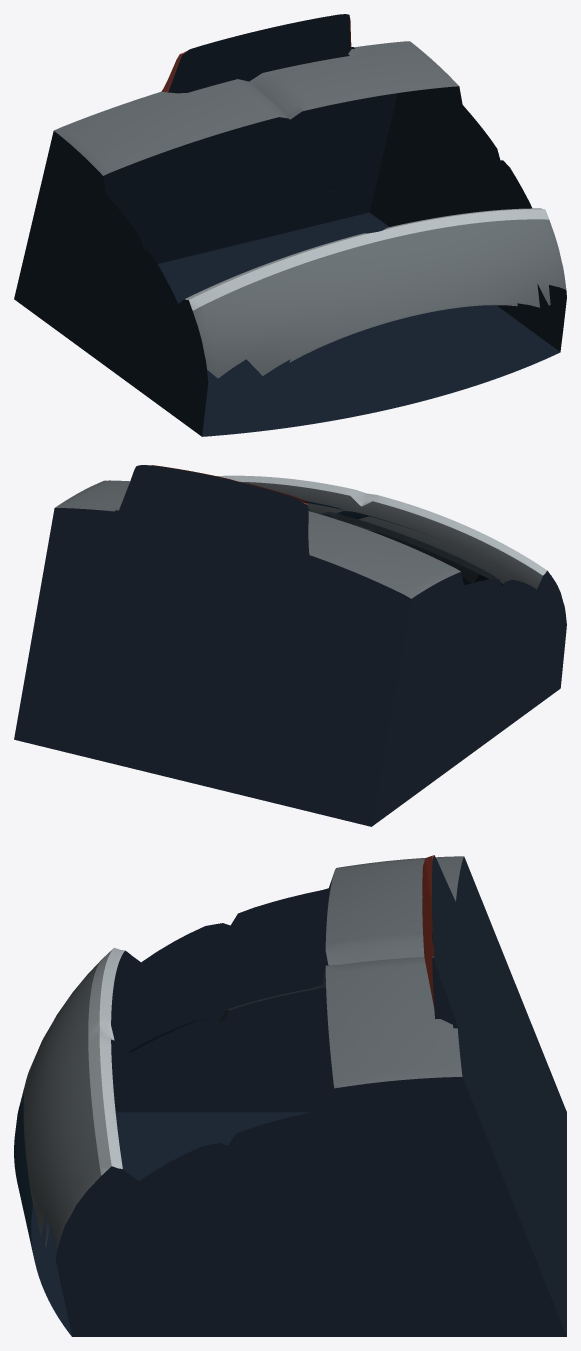
File: armour_dome_85.glb
3 renders of one model, top to bottom at view 1: azimuth 30°, elevation 25°; view 2: azimuth 150°, elevation 25°; view 3: azimuth 270°, elevation 25°, orthographic. The views are drawn at different scales.
Parts seen in each view (by area): view 1: armour_dome_85; view 2: armour_dome_85; view 3: armour_dome_85.
Part boxes in pixels (x1,y1,x2,y2): armour_dome_85: (14,14,566,436); armour_dome_85: (14,465,566,826); armour_dome_85: (14,855,566,1336).
Size of the model in its own units: 24 by 16.76 by 24.96.
